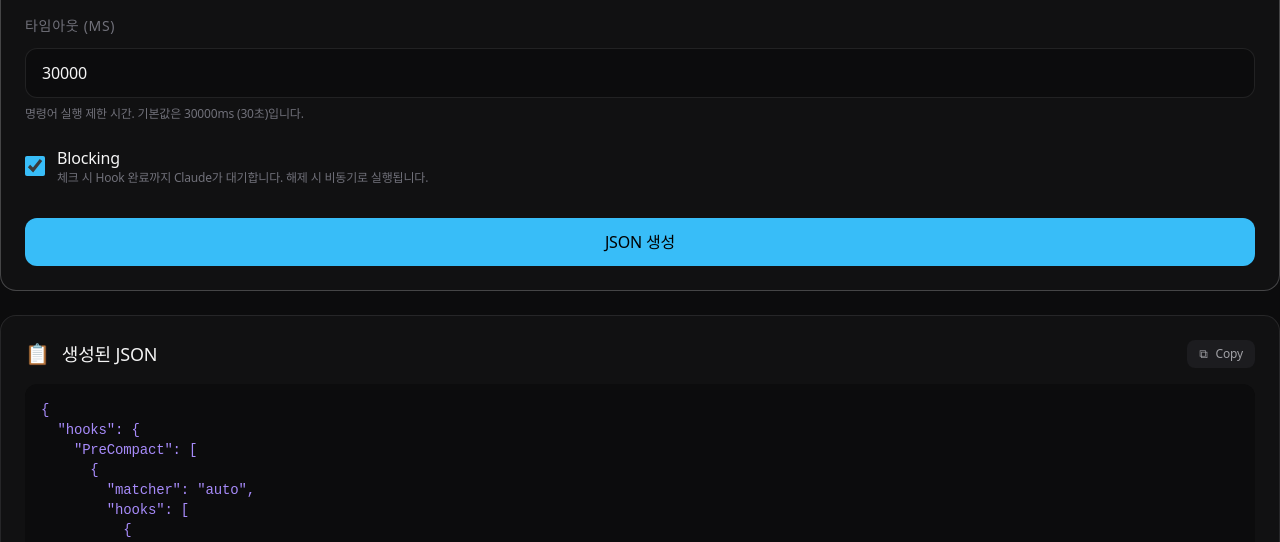
Test: HookConfigGenerator › clears validation error when command is entered
(page scrolled)
Note: Click generate without entering command
Click the button "JSON 생성" at (640, 242), box [25,218,1255,266]
(page scrolled)
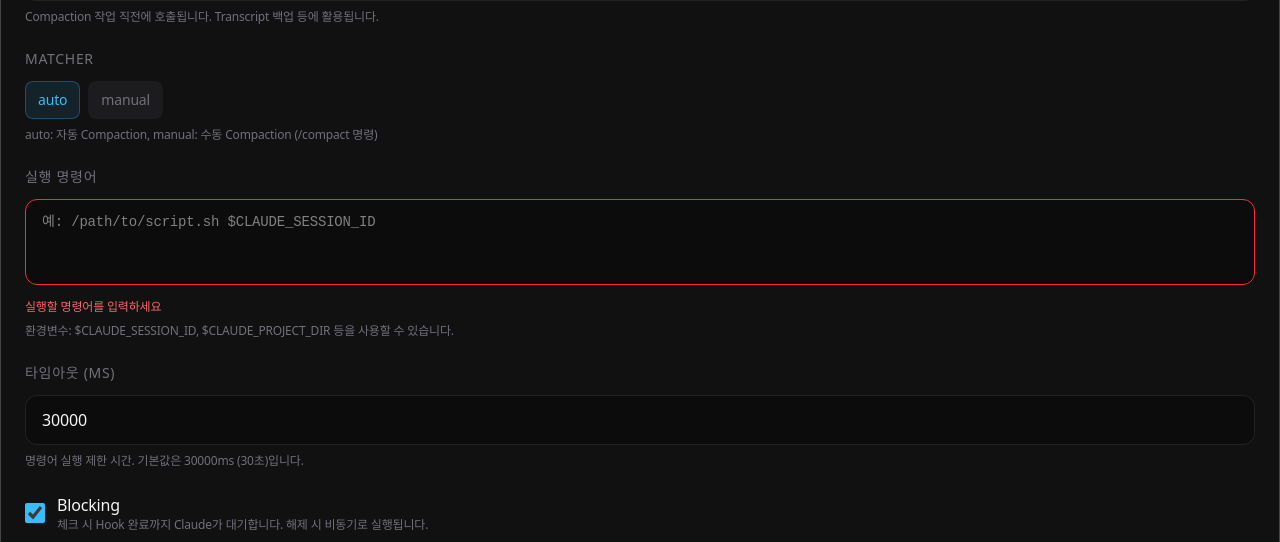
Result: the text "실행할 명령어를 입력하세요" is shown at [25,298,161,315]
Note: Enter command
Type "test command" into the text box with placeholder "예: /path/to/script.sh $CLAUDE_SESSION_ID" at (640, 242), box [25,199,1255,285]
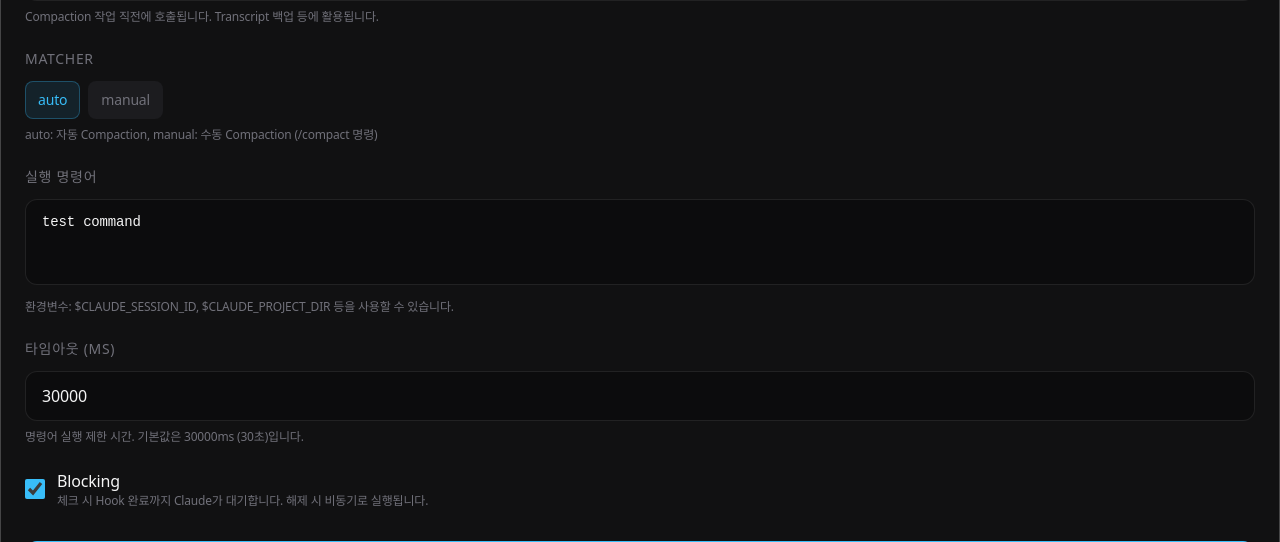
Result: the text "실행할 명령어를 입력하세요" is gone
